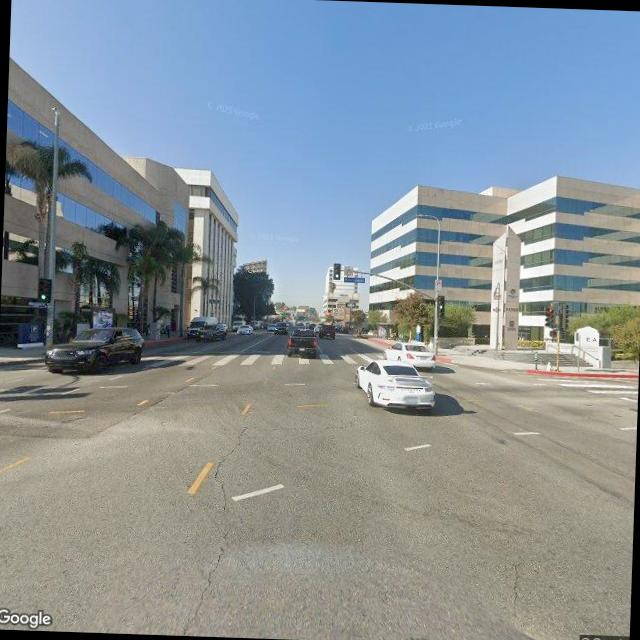pothole: (172, 530, 230, 636), (208, 421, 250, 512), (502, 558, 526, 618)
